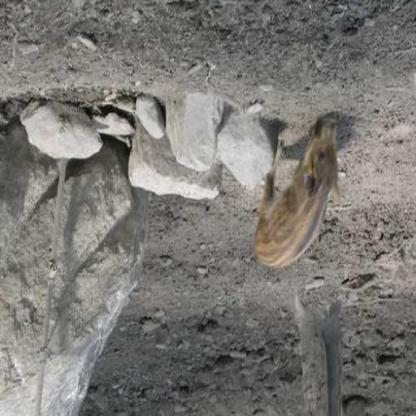boar: (236, 110, 363, 281)
